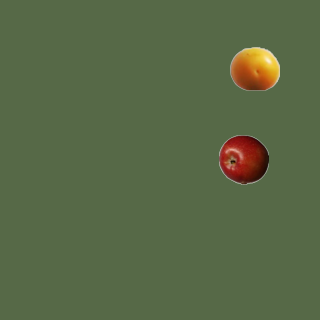Apple Braeburn: (218, 134, 268, 184)
Cherry Wax Yellow: (229, 43, 279, 93)
